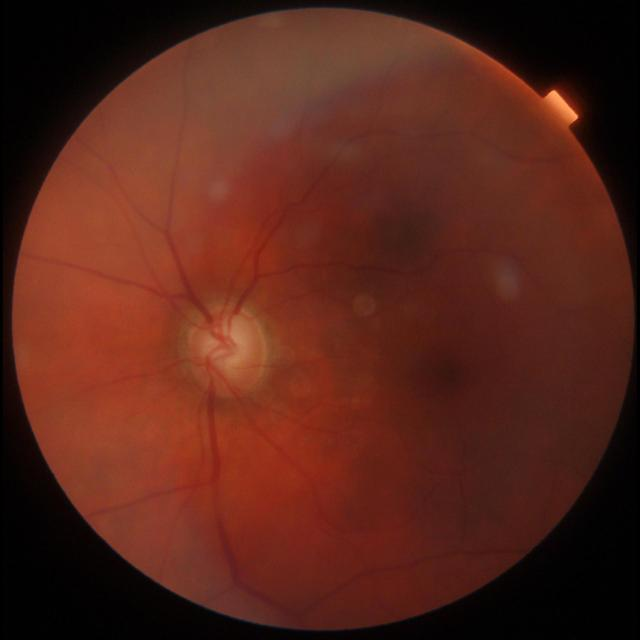OC: (204, 326, 246, 364)
OD: (187, 309, 268, 397)
